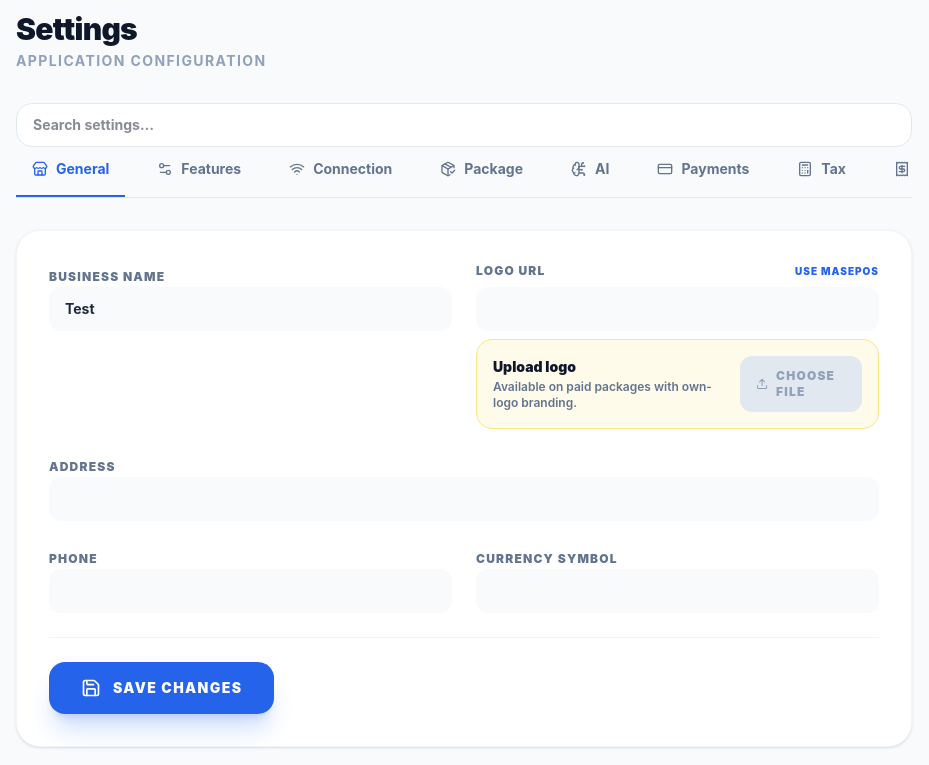
Test: SettingsView tab navigation › shows an empty message and restores tabs on Escape
In the search field labelled "Search settings": (464, 125) [16, 103, 912, 147], type "zzzz"
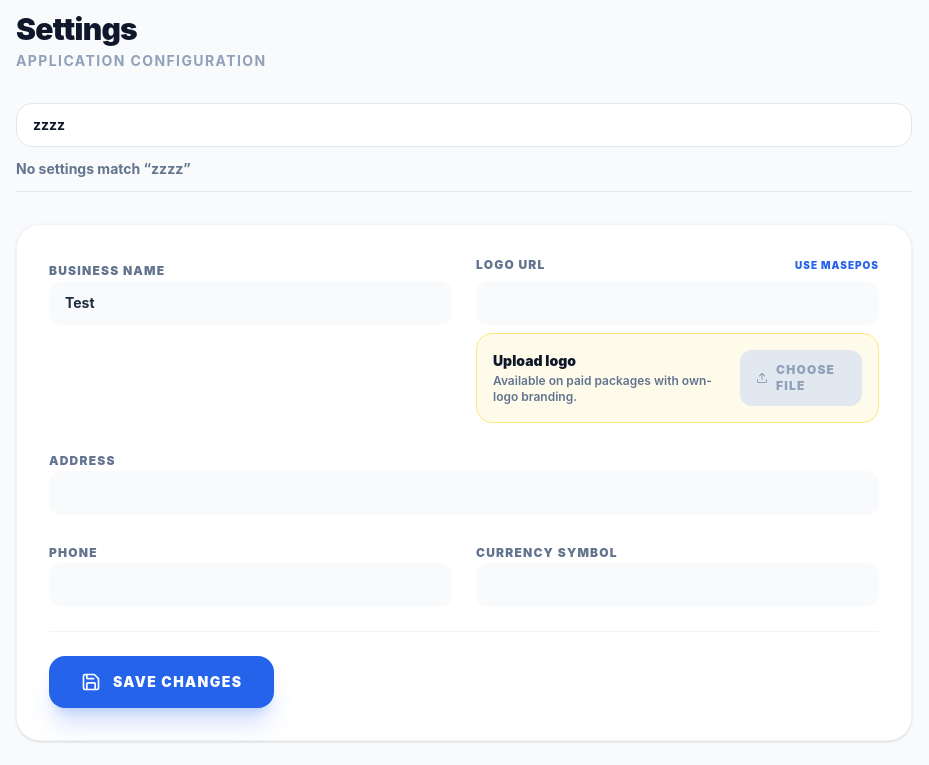
Expected: the text "No settings match “zzzz”" is shown, [16, 160, 191, 177]
Press Escape in the search field named "Search settings", box [16, 103, 912, 147]
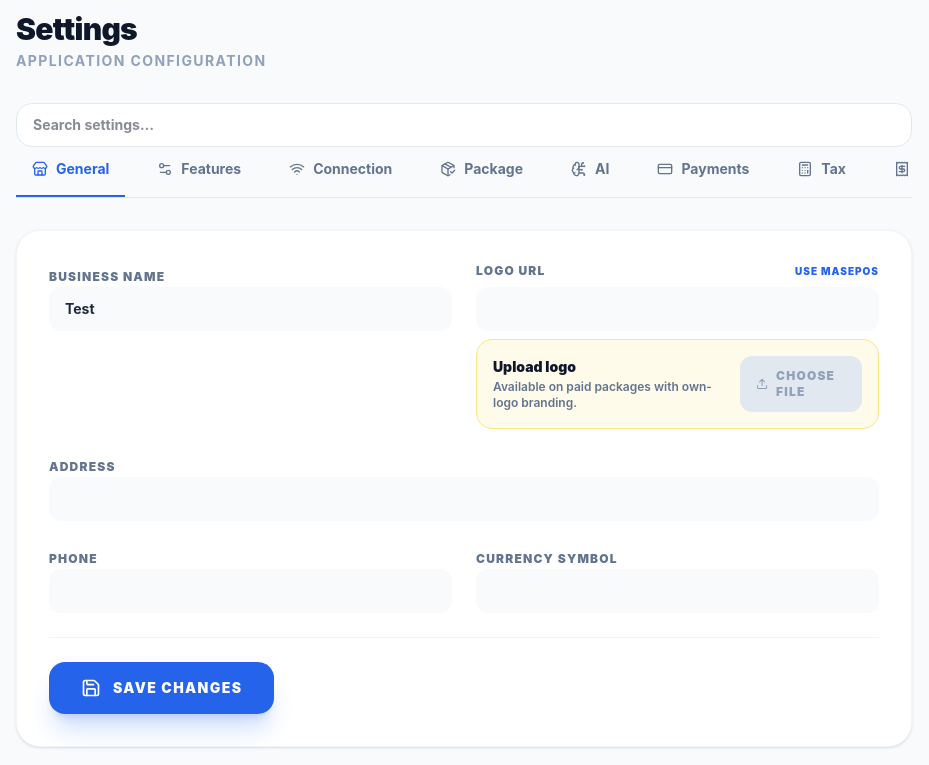
Expected: the button "General" is shown, [16, 159, 125, 197]
Expected: the text "No settings match" is gone
